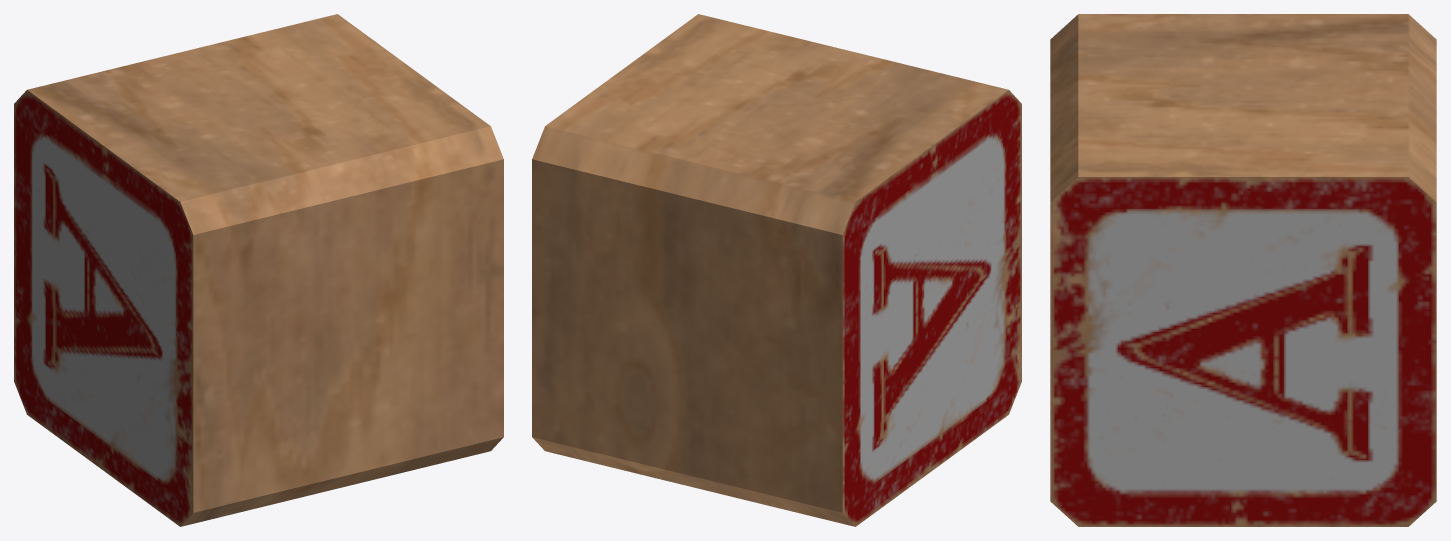
File: block_A.obj
The picture shows the model from 3 angles, left to right: view 1: azimuth 30°, elevation 25°; view 2: azimuth 150°, elevation 25°; view 3: azimuth 270°, elevation 25°; orthographic projection. The views are drawn at different scales.
Bounding box in the file's own units: 0.2 × 0.2 × 0.2.
1 material, 1 textured.
